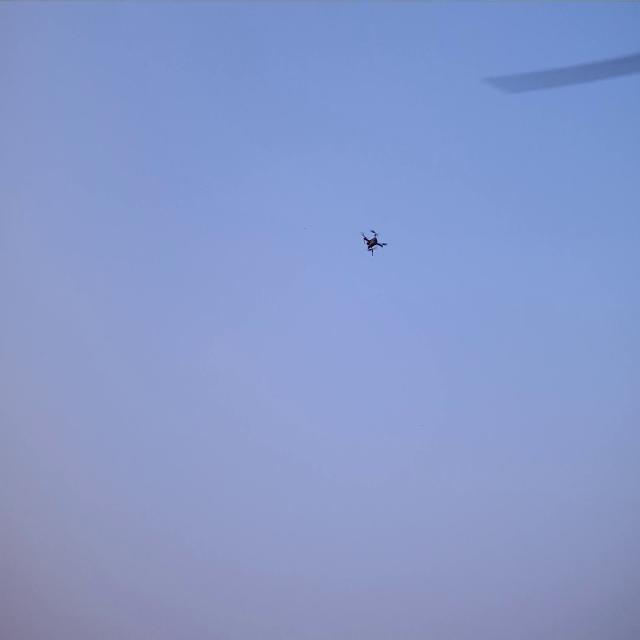UAV: (363, 231, 385, 255)
